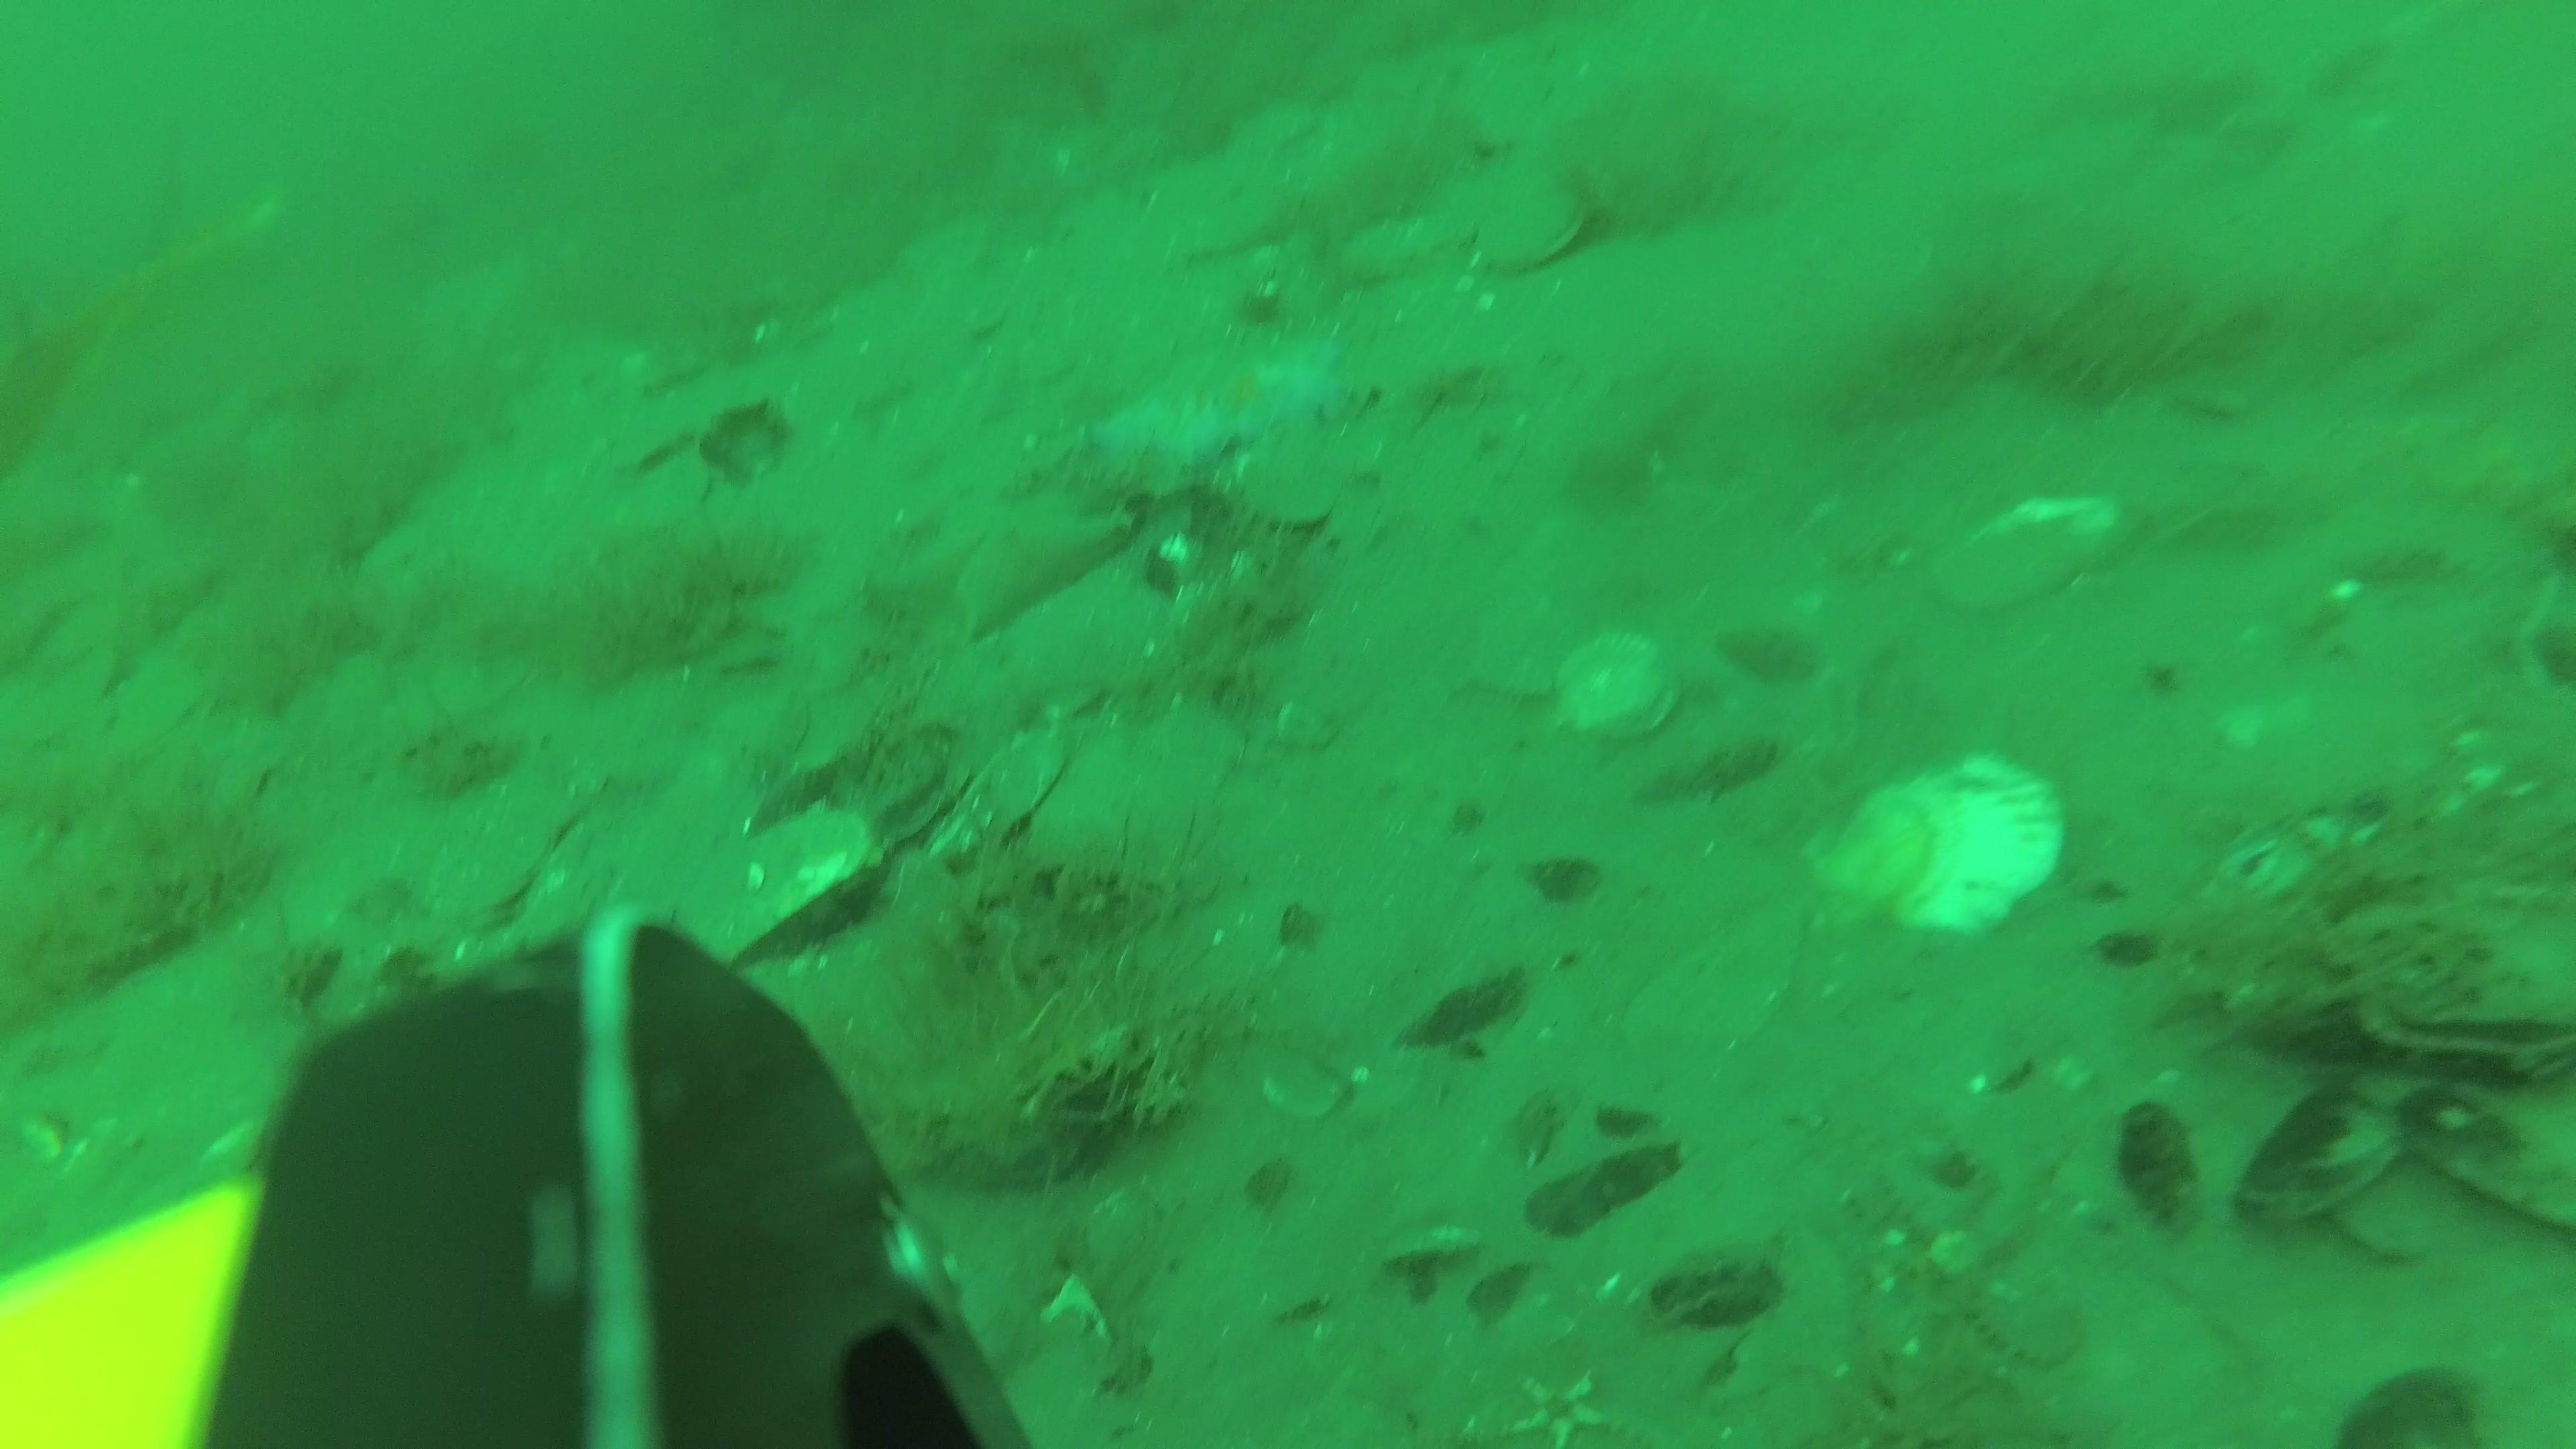scallop: (1821, 755, 2065, 938), (692, 812, 870, 964), (1934, 488, 2121, 607), (432, 800, 563, 918), (1552, 630, 1667, 736), (1484, 184, 1594, 280), (1343, 216, 1454, 278)
starfish: (1083, 331, 1334, 488), (869, 495, 1143, 635)
